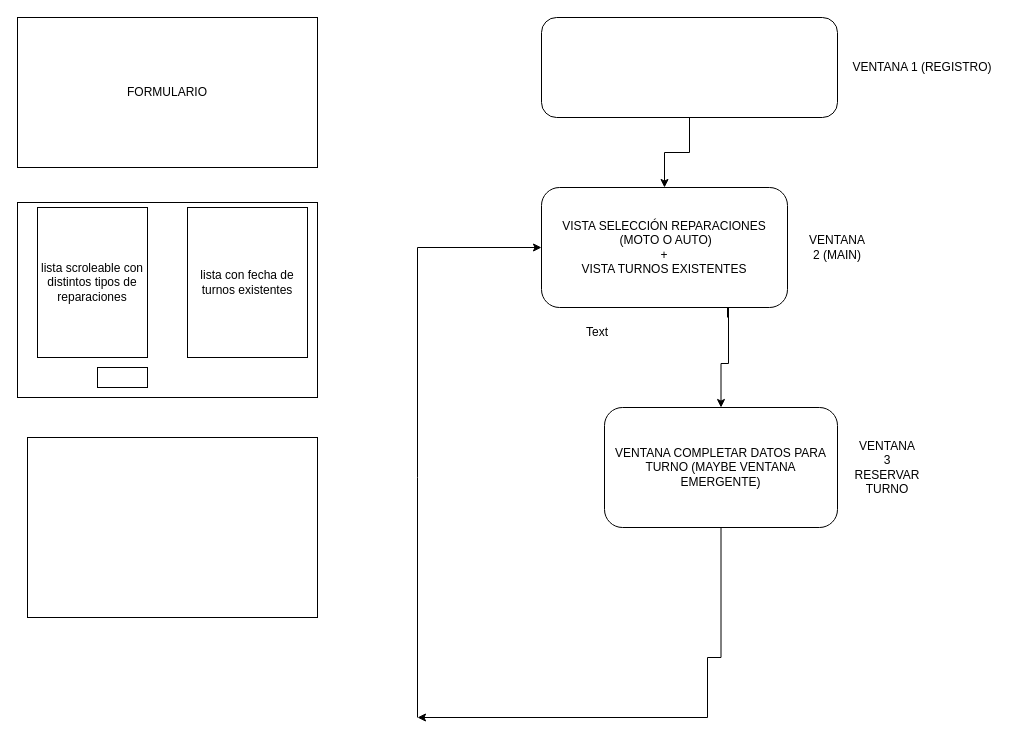
Some shapes in this 1015 by 743 pixel diagram are drawn without their labels. The shapes that lost their labels are listed below. From the top down, each one's centre as x and y in pixels, then its label:
point (689, 67): REGISTRAR VEHICULO
point (172, 527): OTRO FORMULARIO XD
